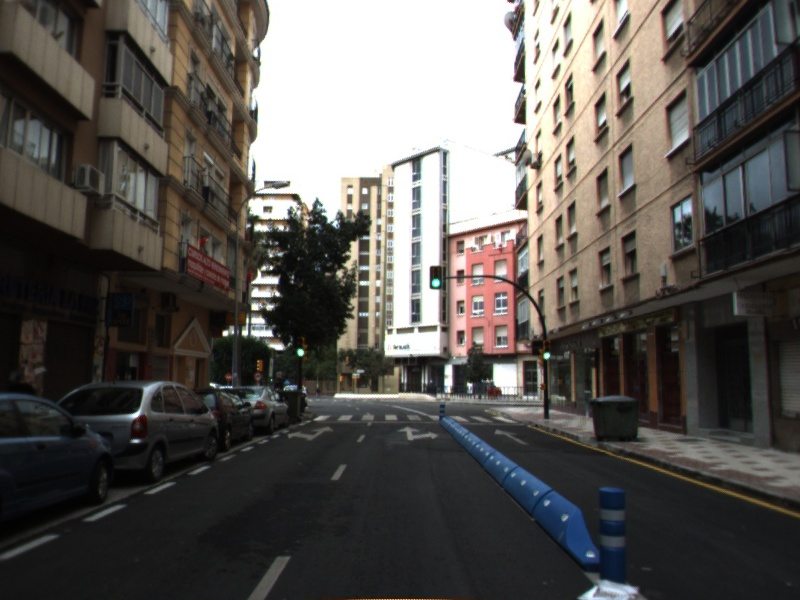STRAIGHT: (493, 427, 530, 446)
STRAIGHT_LEFT: (286, 424, 335, 442)
STRAIGHT_RIGHT: (396, 424, 441, 442)
